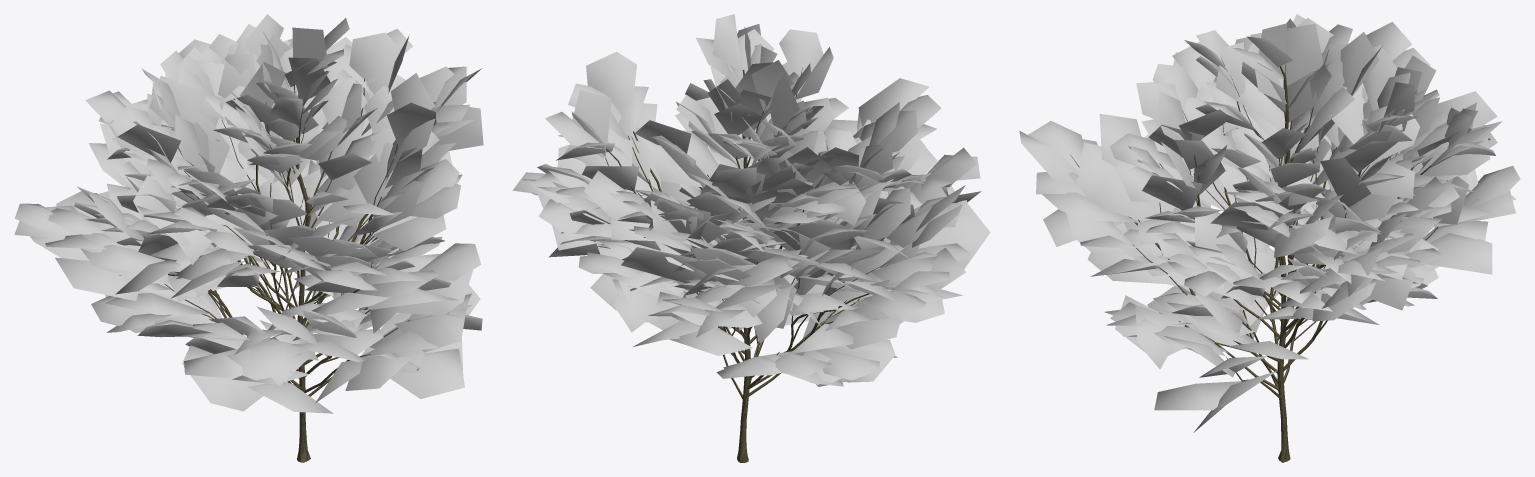
The model's file is Tree_Sm_07_2_L1.fbx.
3 views of the same model, side by side, from view 1: azimuth 30°, elevation 25°; view 2: azimuth 150°, elevation 25°; view 3: azimuth 270°, elevation 25° (orthographic). The views are drawn at different scales.
Parts seen in each view (by area): view 1: polySurface45; view 2: polySurface45; view 3: polySurface45.
Part boxes in pixels (bbox=[...]): polySurface45: bbox=[14, 14, 483, 462]; polySurface45: bbox=[512, 14, 990, 462]; polySurface45: bbox=[1019, 14, 1520, 462].
Size of the model in its own units: 597 by 569 by 591.
